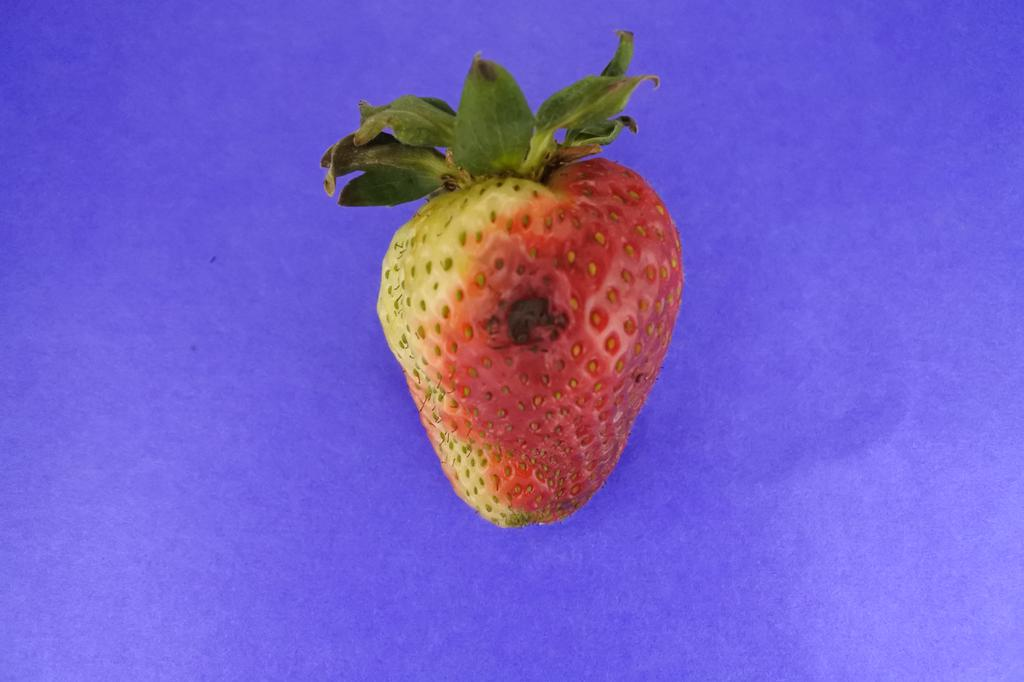red strawberry: (320, 40, 690, 529)
